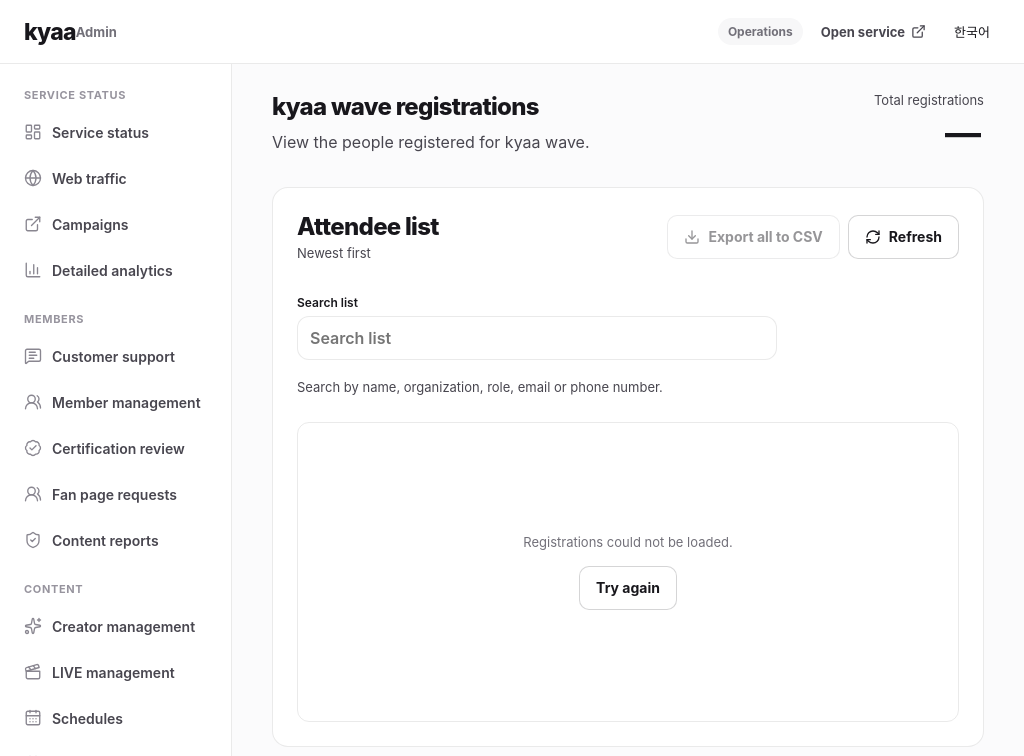
Test: kyaa wave registration list › handles English empty, error and retry states
Expected: the message shows "Registrations could not be loaded.", 523,534 -> 733,550
Expected: the button "Export all to CSV" is disabled, 667,215 -> 840,259
Click the button "Try again".
click(628, 588)  # box 579,566 -> 677,610
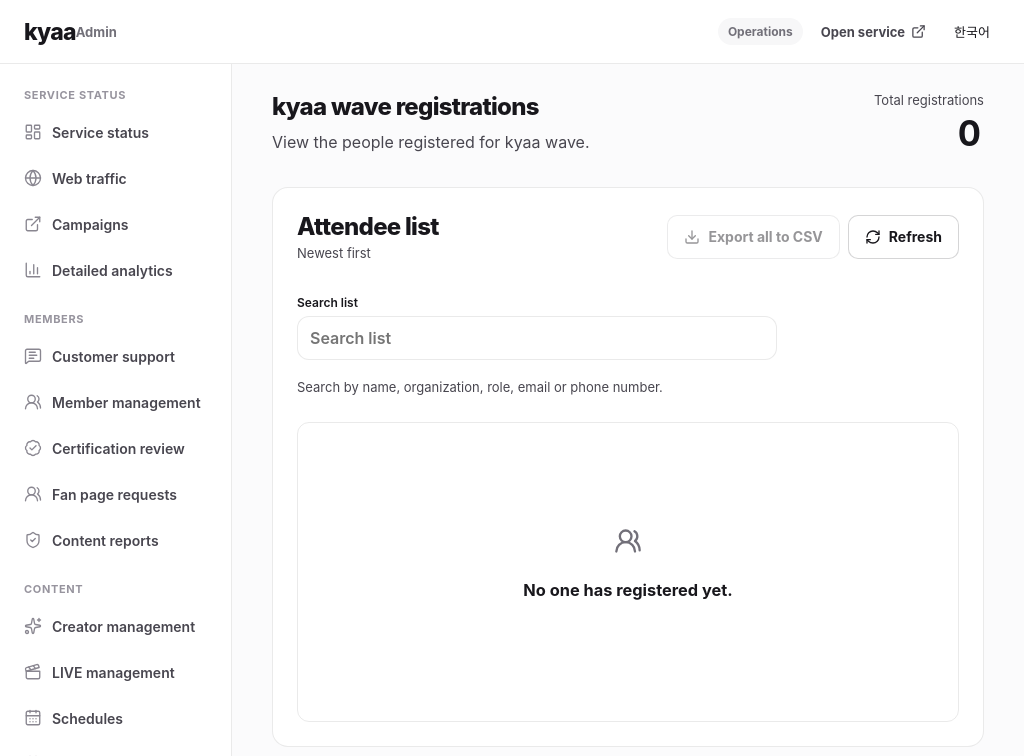
Expected: the button "Export all to CSV" is disabled, 667,215 -> 840,259
Now the heading "No one has registered yet." is shown, box 523,580 -> 733,600
